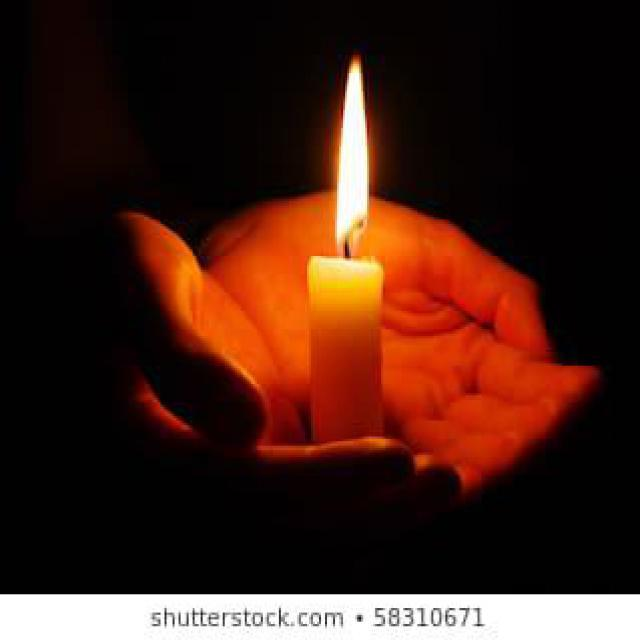Fire: (335, 55, 369, 247)
